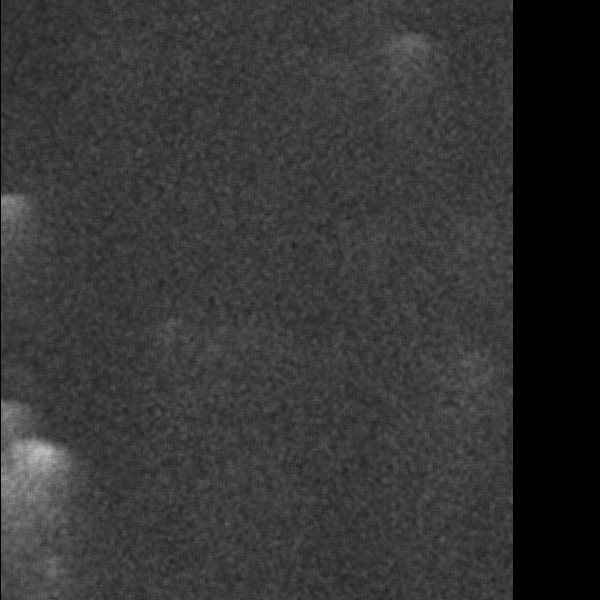spark: (206, 363, 257, 419), (263, 247, 283, 310), (59, 205, 88, 240)
